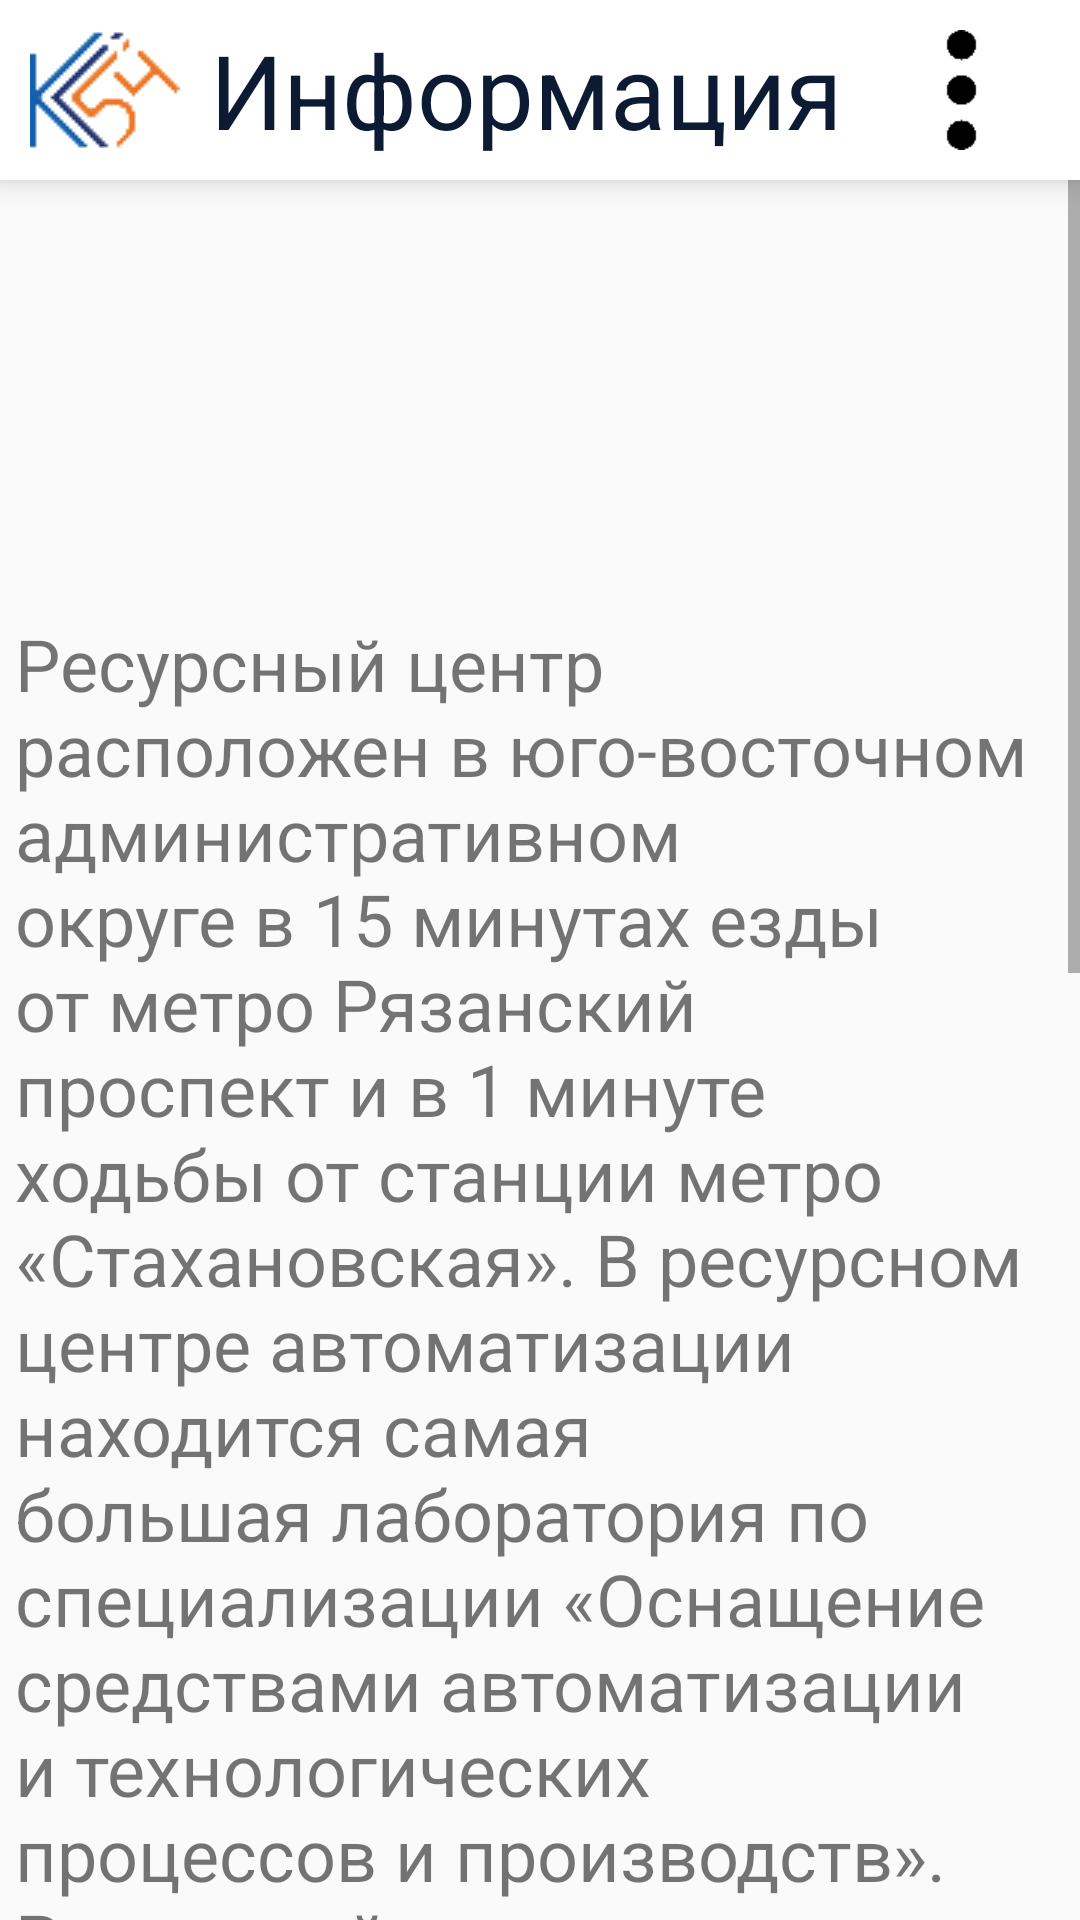

Named icons in this screenshot (1080w x 1920h) and their centers, point (x, y):
menuheaderbutton: point (961, 90)
